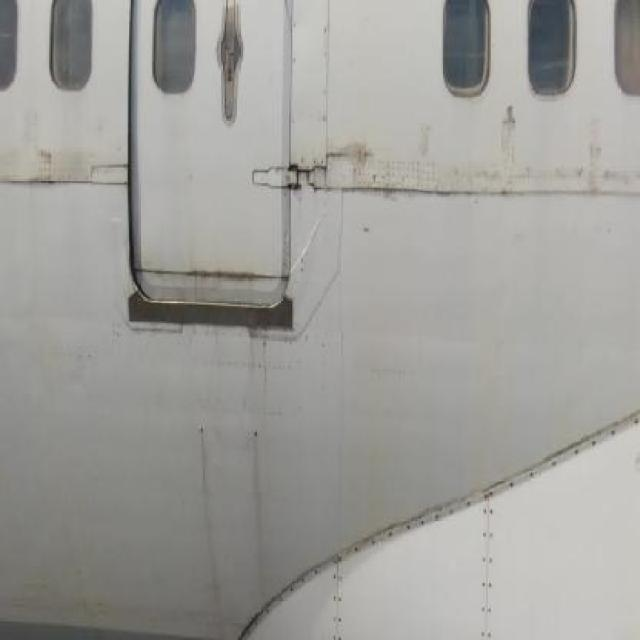Missing-Rivet: (517, 406, 626, 488), (368, 484, 468, 558), (474, 483, 501, 640), (326, 552, 354, 636)
Rust: (190, 424, 227, 613), (240, 424, 272, 582), (192, 259, 259, 290), (336, 136, 384, 178), (34, 136, 68, 179)
Scartch: (573, 122, 635, 188), (497, 105, 525, 160)
